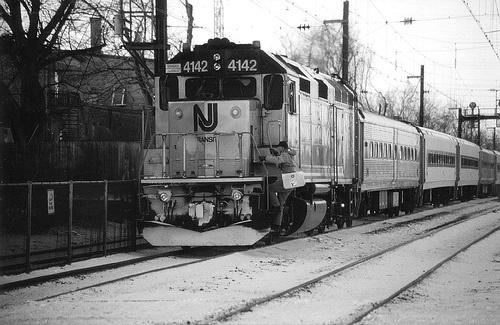train: (141, 37, 500, 248)
